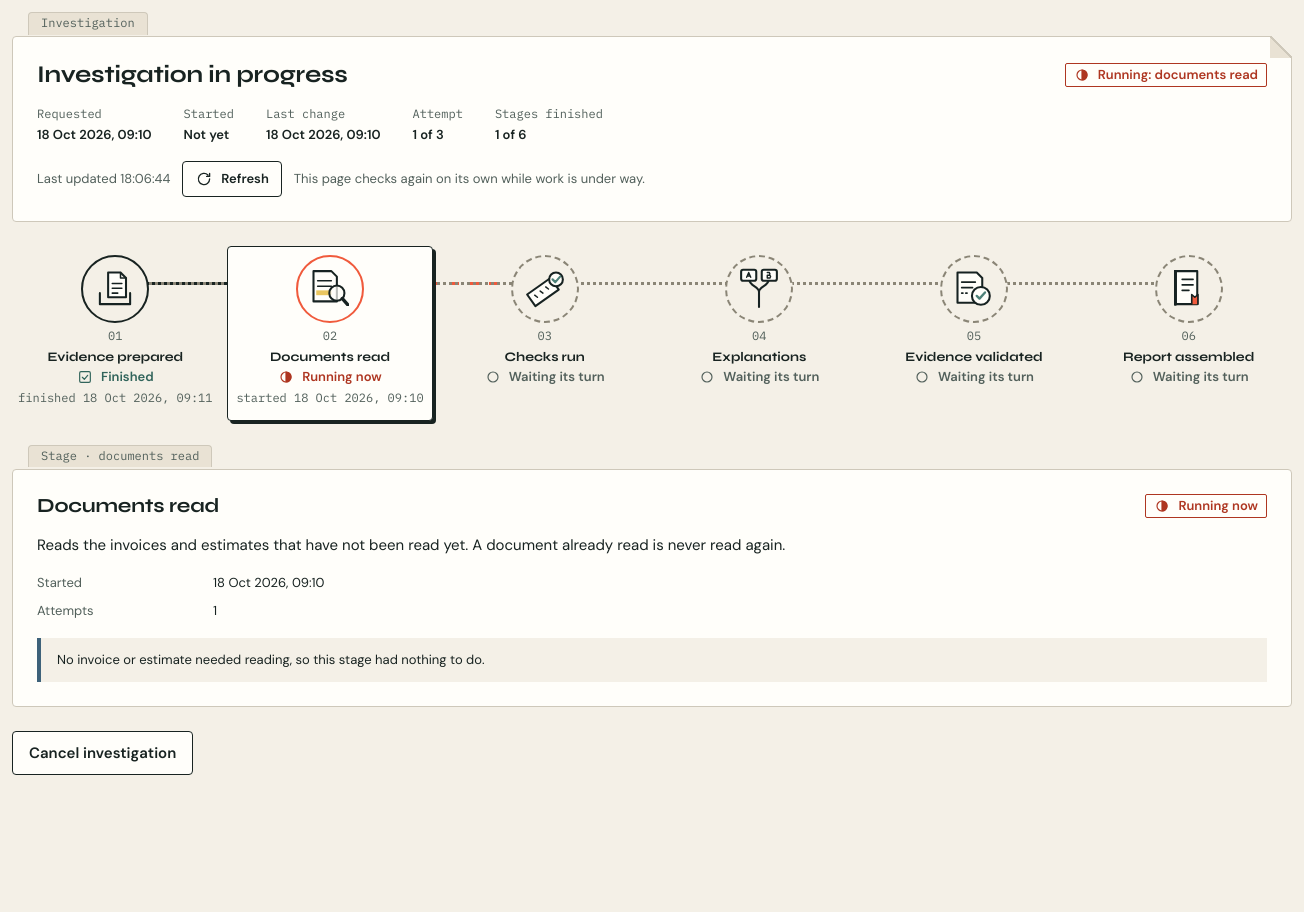
Test: the route › opens on the stage that matters and lets any stage be inspected, with the current one marked
Expected: the element named "Investigation route" is shown, 12,246 -> 1292,421
Expected: the heading "Documents read" is shown, 37,494 -> 219,517
Click the button "03 Checks run Waiting its turn" at (545, 333), box 441,246 -> 648,421
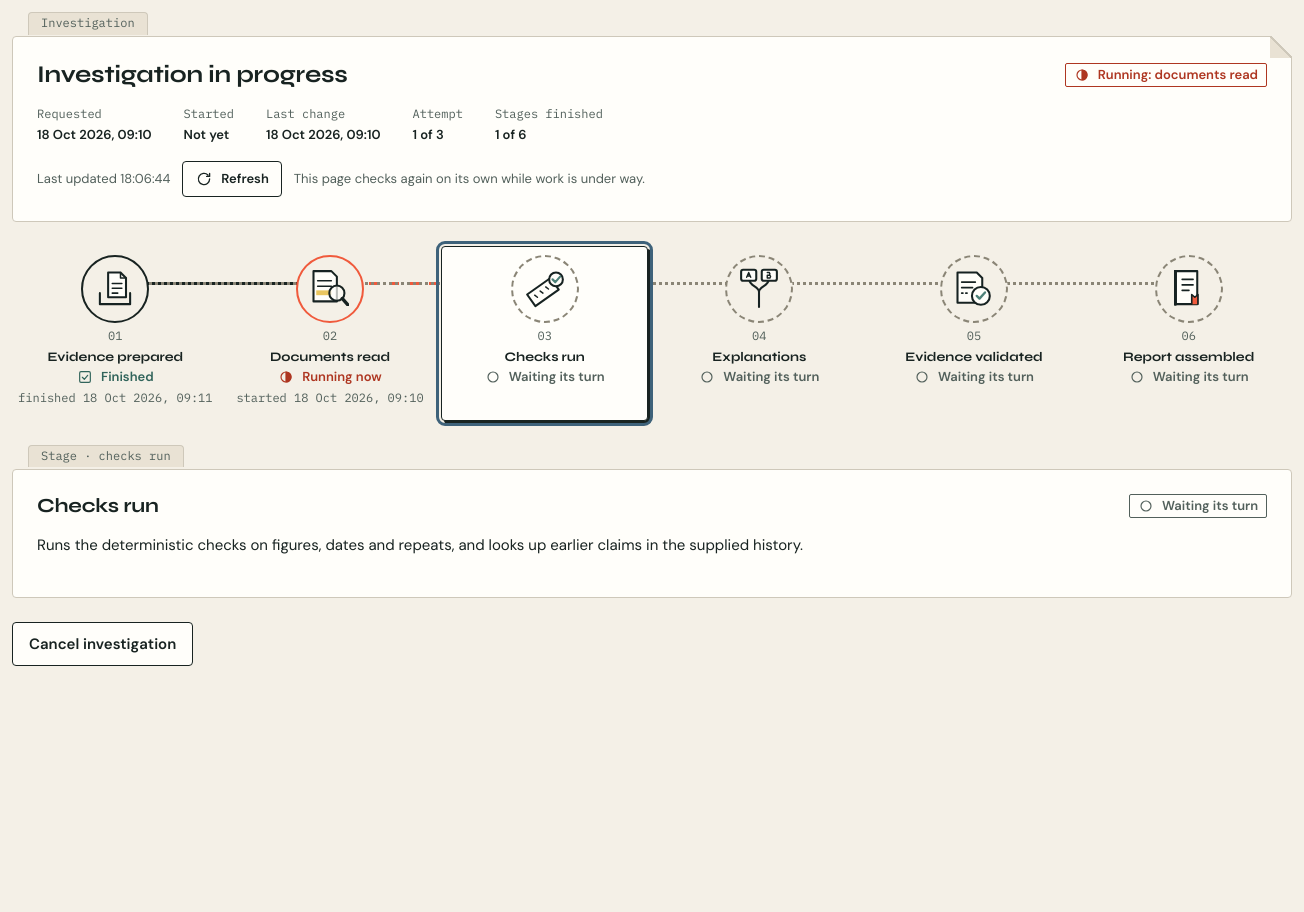
Expected: the heading "Checks run" is shown, 37,494 -> 159,517
